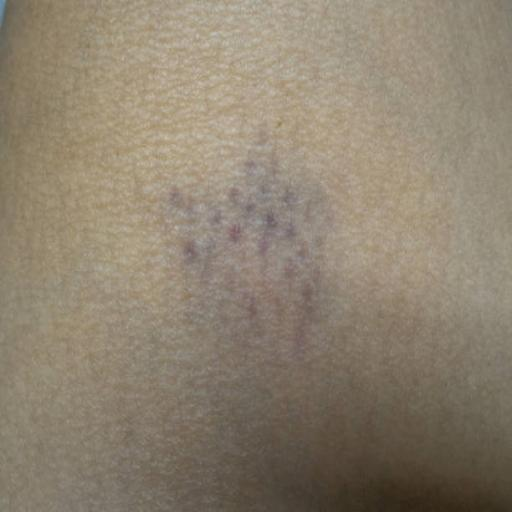bruises: (226, 150, 322, 294)
